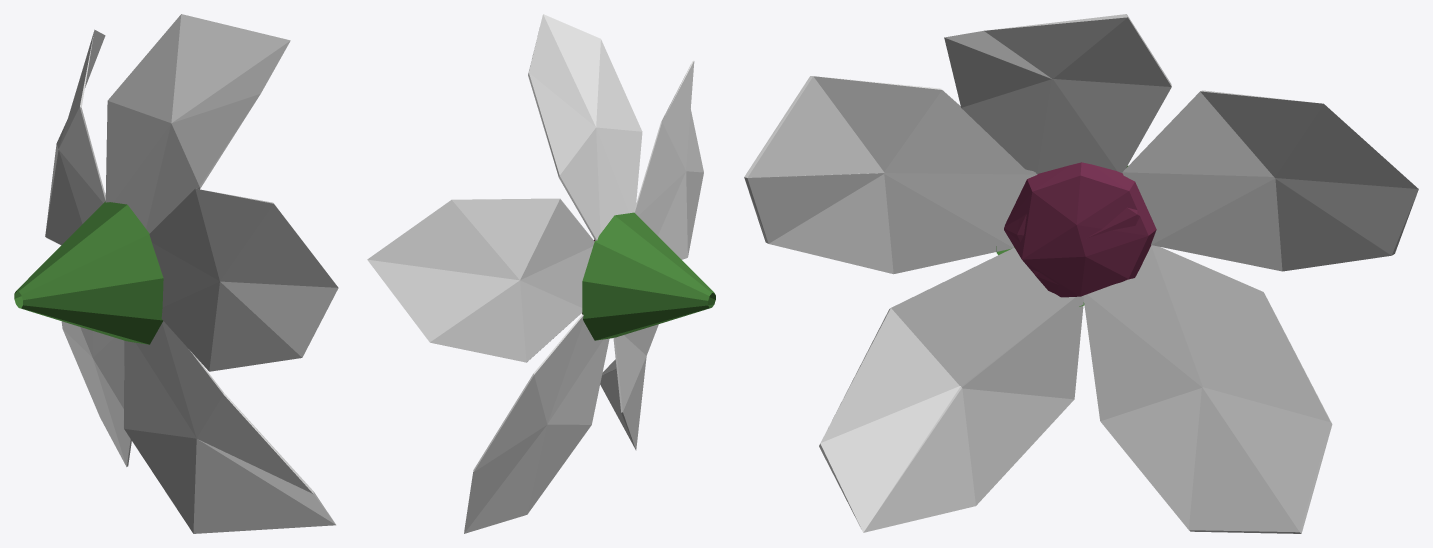
Rendered from AlmondFlower.obj.
The picture shows the model from 3 angles, left to right: view 1: azimuth 30°, elevation 25°; view 2: azimuth 150°, elevation 25°; view 3: azimuth 270°, elevation 25°; orthographic projection. The views are drawn at different scales.
Parts seen in each view (by area): view 1: petals, sepal; view 2: petals, sepal; view 3: petals.
Boxes of the visible parts, x1,y1,x2,y2 form: petals: (45, 14, 338, 533); sepal: (14, 201, 163, 344); petals: (367, 14, 703, 533); sepal: (582, 212, 715, 340); petals: (744, 14, 1418, 533).
Size of the model in its own units: 0.9303 by 1.79 by 2.02.
